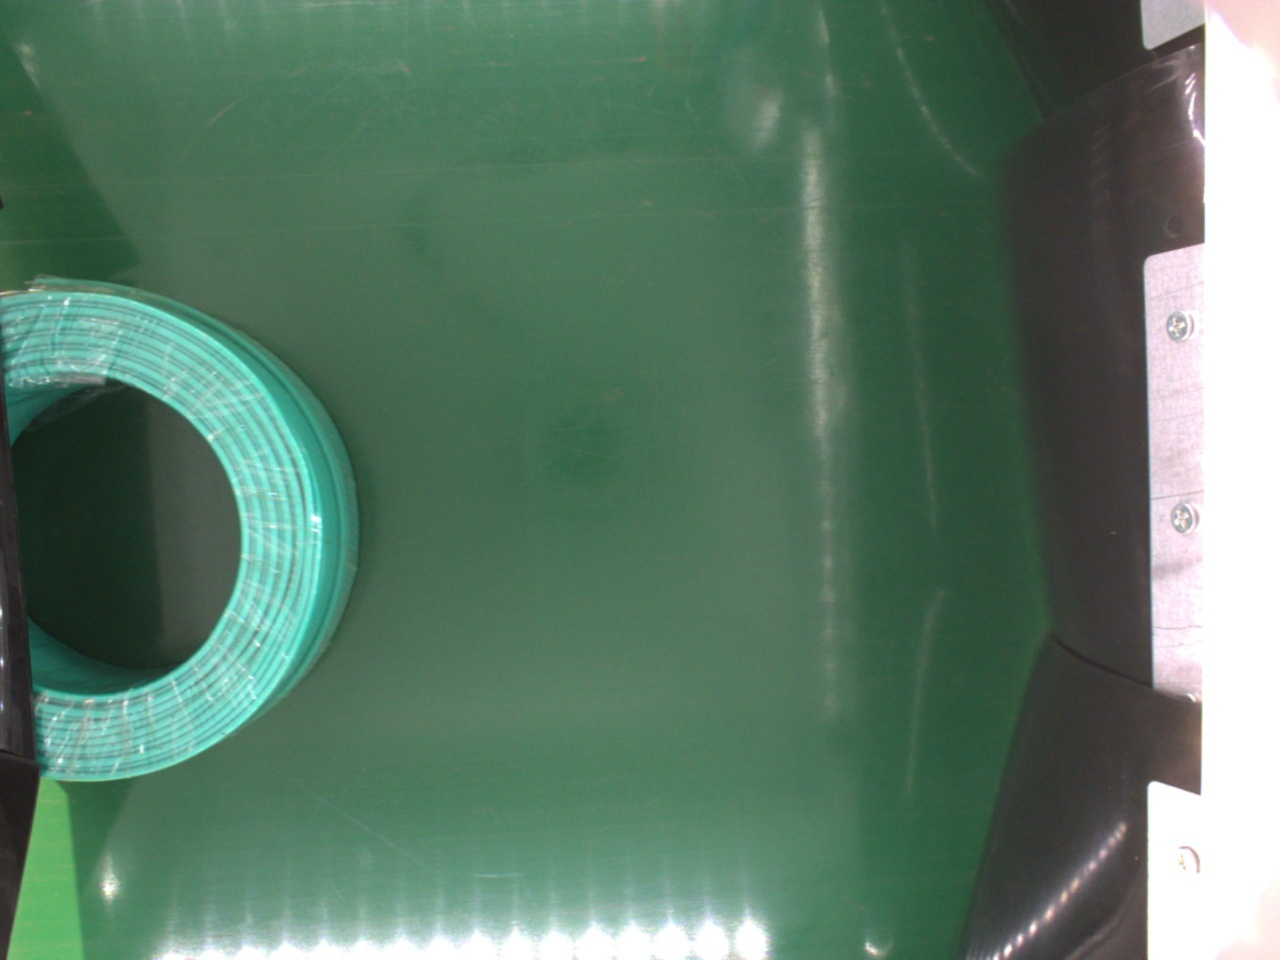green: (1, 280, 357, 781)
